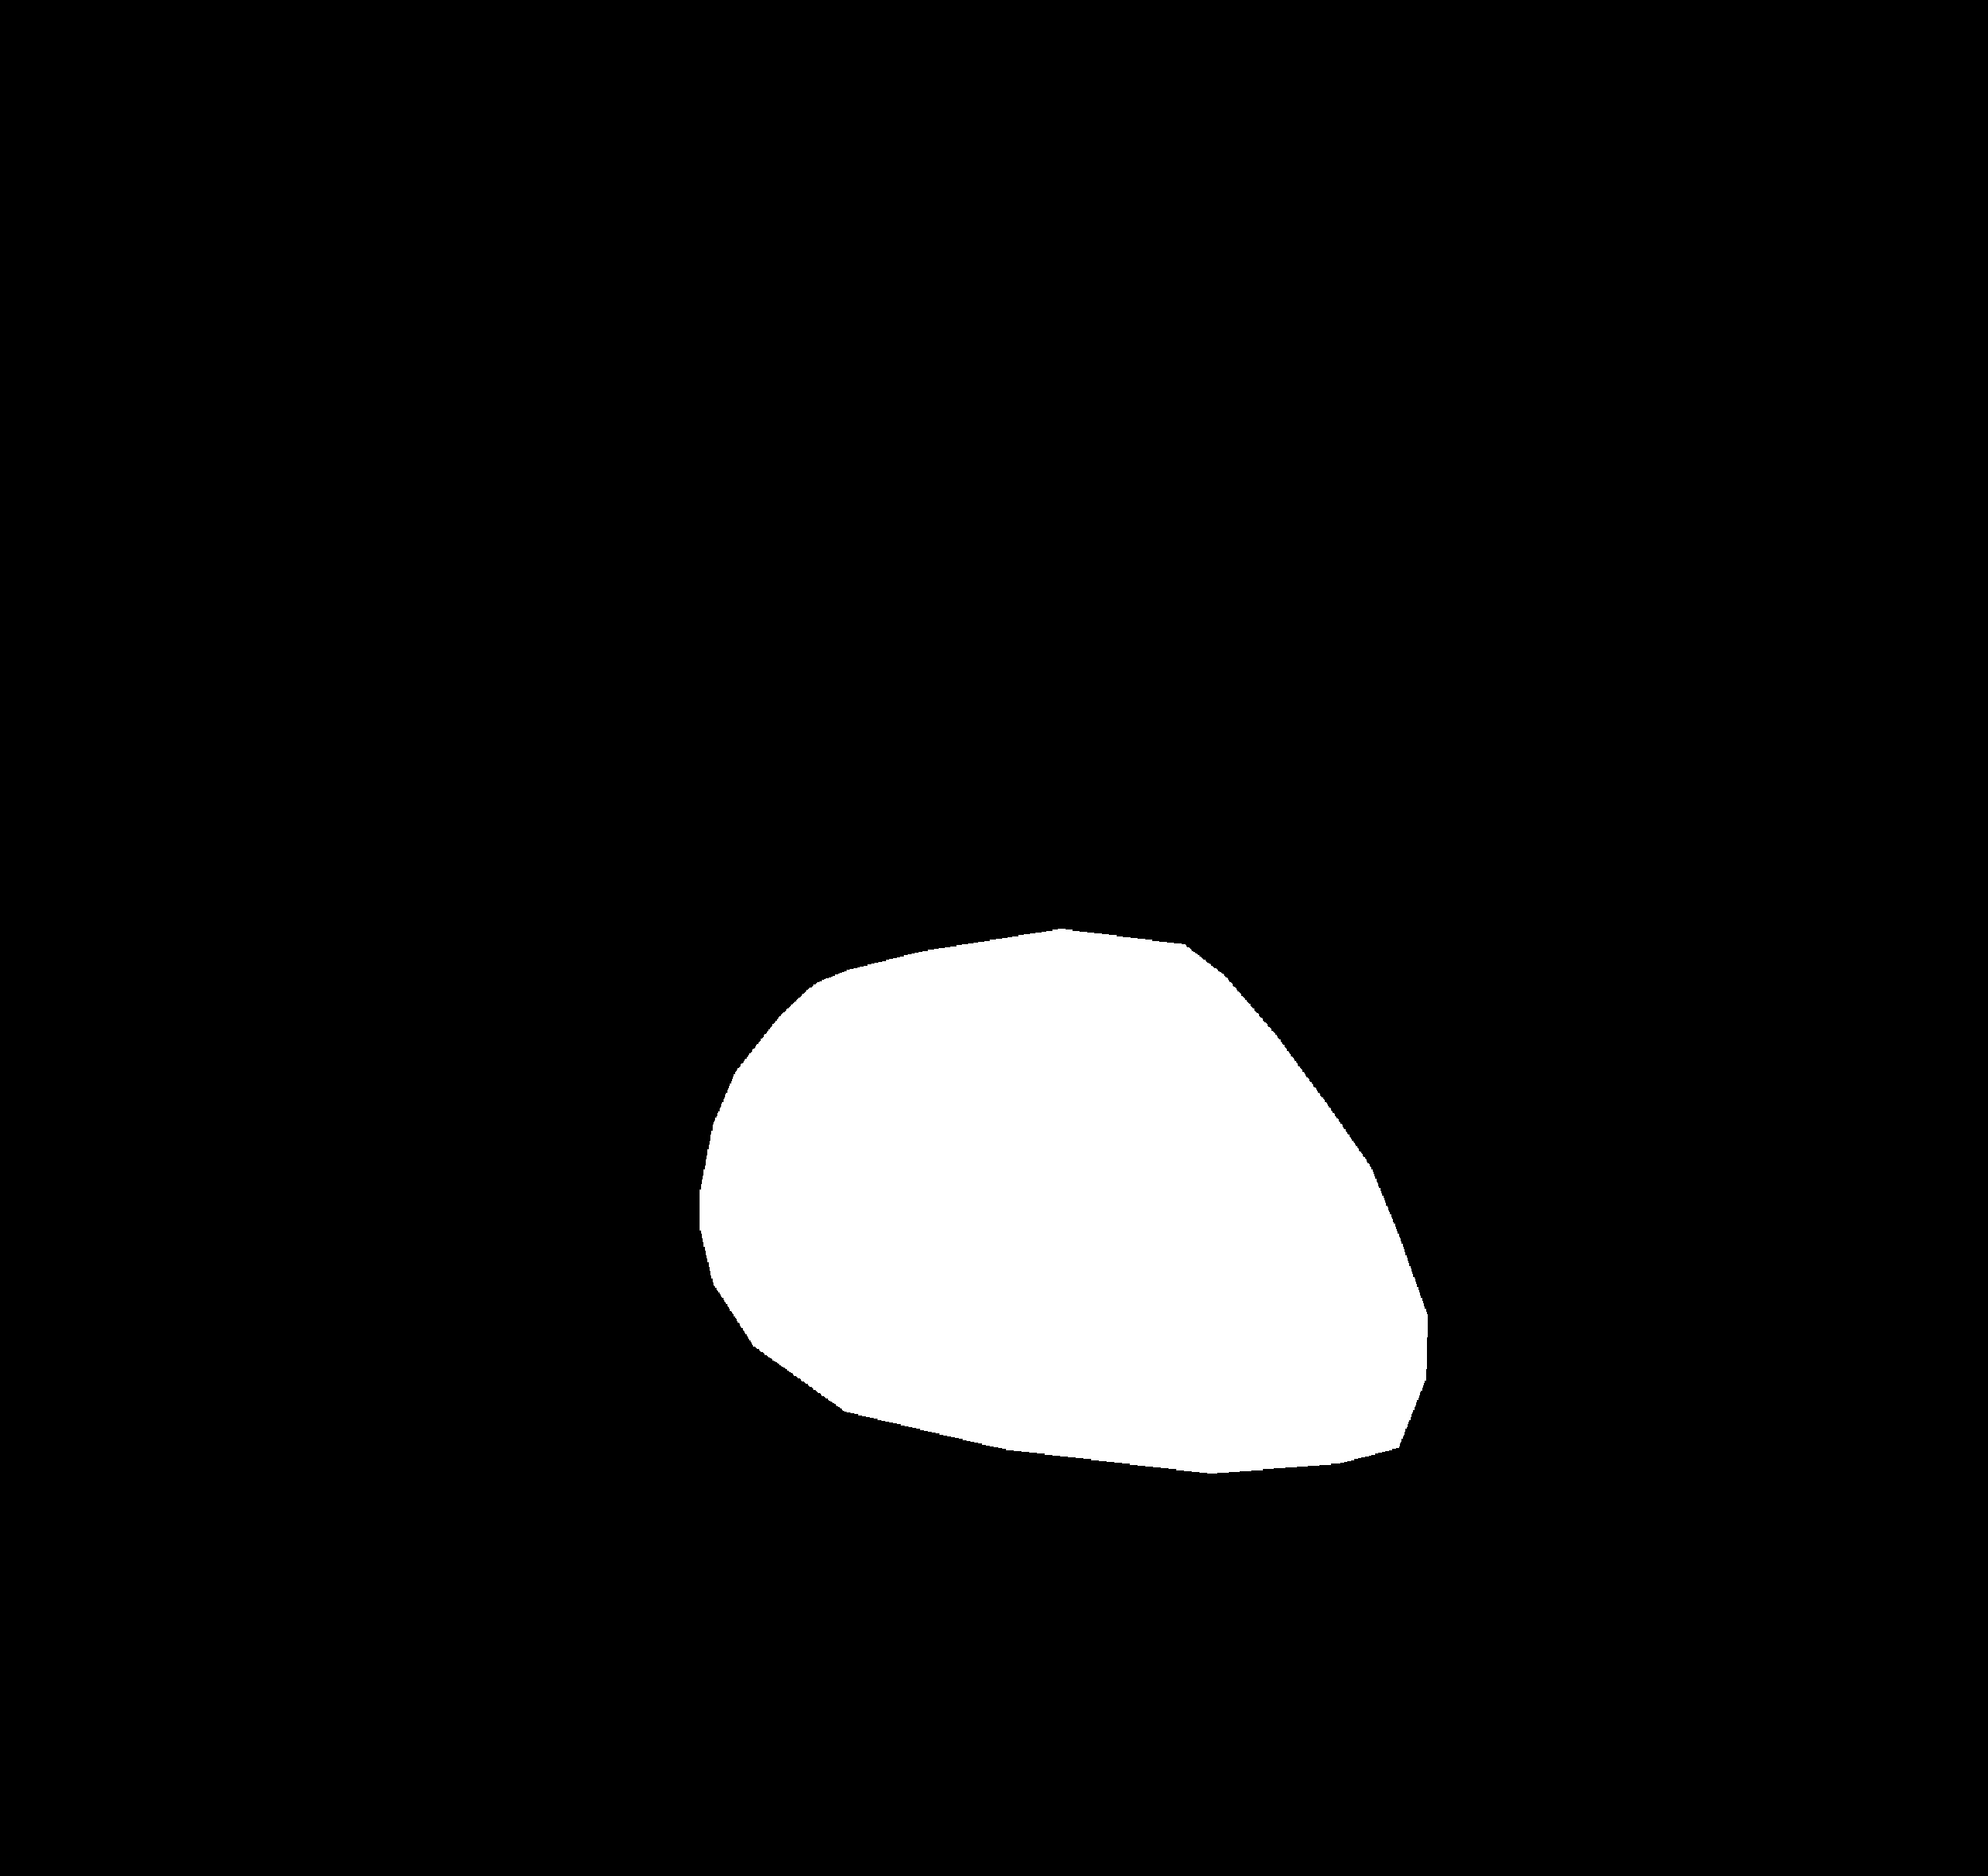heart: (694, 991, 1428, 1465)
left_lung: (204, 263, 913, 1599)
right_lung: (1077, 270, 1732, 1582)
